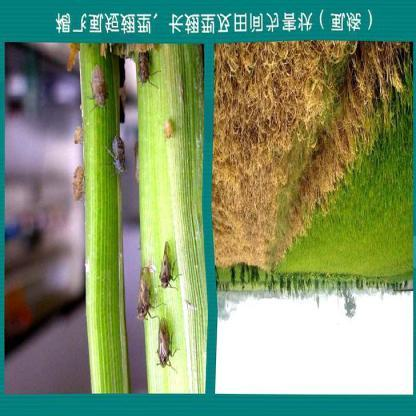brown-planthopper: (88, 62, 110, 110), (134, 265, 152, 322), (155, 320, 175, 371), (158, 240, 177, 291), (108, 135, 128, 179), (70, 163, 86, 204), (136, 50, 153, 86), (162, 118, 174, 140), (72, 124, 84, 145)
